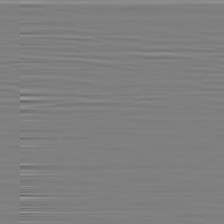cavities: (114, 75, 181, 120)
